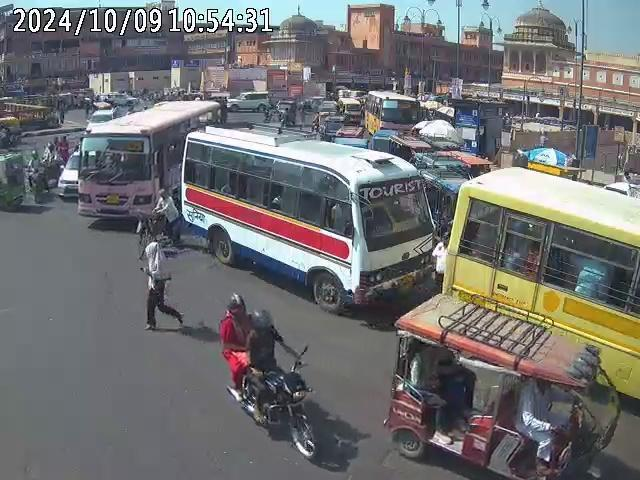auto: (379, 294, 627, 479), (0, 147, 33, 212)
bus: (176, 127, 440, 310), (444, 162, 638, 399), (76, 102, 221, 225), (362, 90, 421, 137)
car: (56, 145, 80, 201), (224, 90, 272, 114)
helmet: (248, 307, 276, 338), (226, 292, 249, 317)
license_plate: (106, 194, 120, 205)
motorbike-rider: (218, 290, 320, 458), (26, 148, 49, 200)
person: (142, 240, 185, 332)
